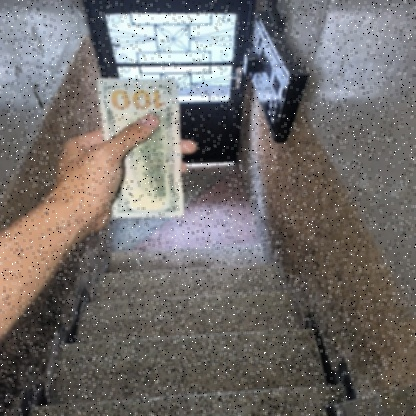one_hundred-back: (96, 74, 191, 226)
